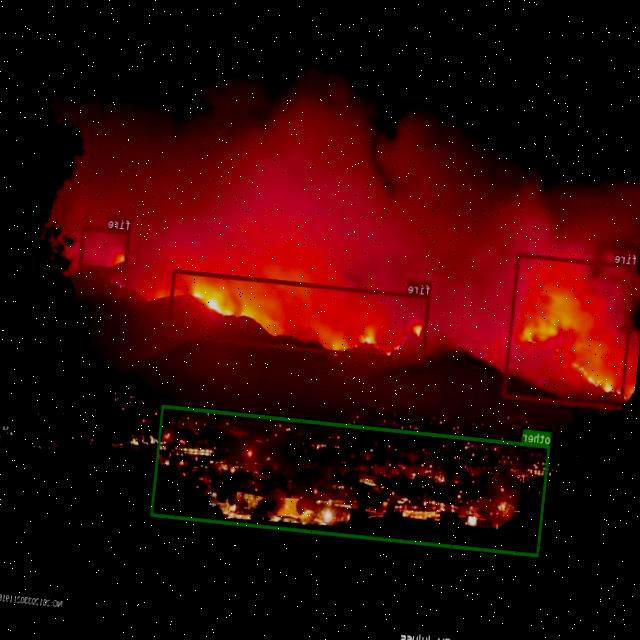fire: (167, 268, 430, 362), (503, 252, 638, 409), (80, 225, 130, 272)
